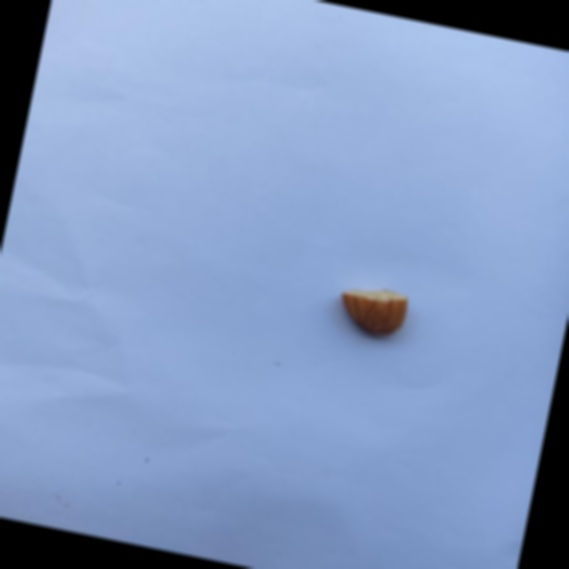grade4: (327, 276, 417, 347)
